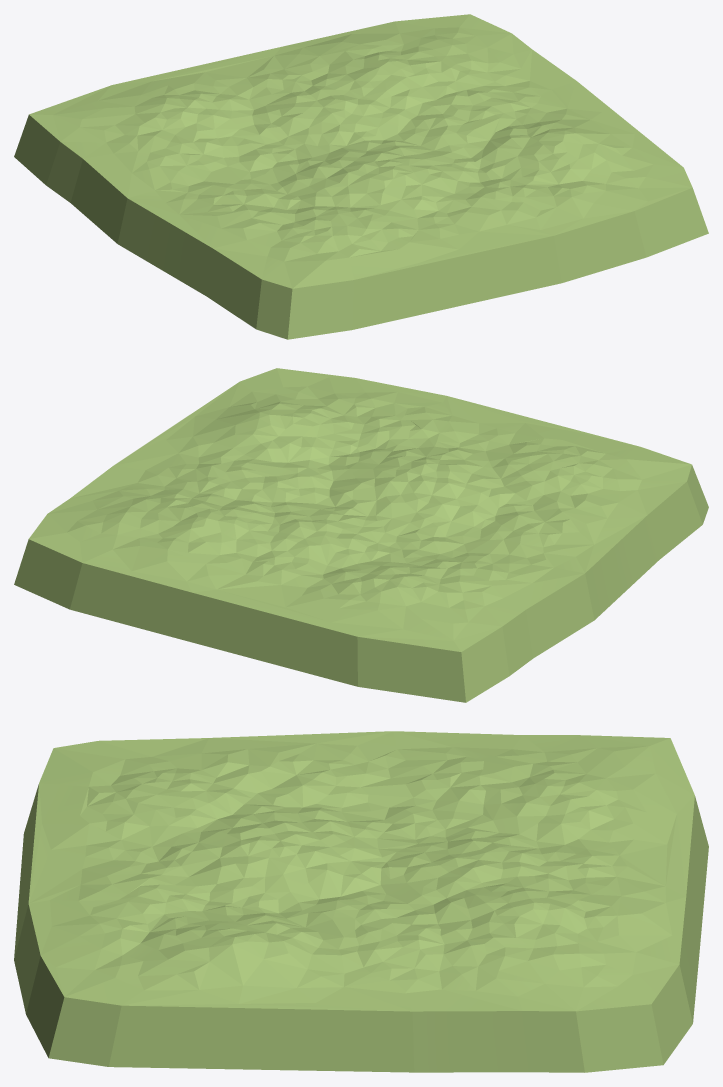
Rendered from floating_meadow_1.glb.
3 views of the same model, one above another, from view 1: azimuth 30°, elevation 25°; view 2: azimuth 150°, elevation 25°; view 3: azimuth 270°, elevation 25° (orthographic). The views are drawn at different scales.
Visible parts, largest first — view 1: PP_Meadow_07; view 2: PP_Meadow_07; view 3: PP_Meadow_07.
Part boxes in pixels (left/top/right/bottom): PP_Meadow_07: left=14, top=14, right=708, bottom=339; PP_Meadow_07: left=14, top=368, right=708, bottom=702; PP_Meadow_07: left=14, top=731, right=708, bottom=1072.
Bounding box in the file's own units: 22.51 × 2.83 × 22.59.
